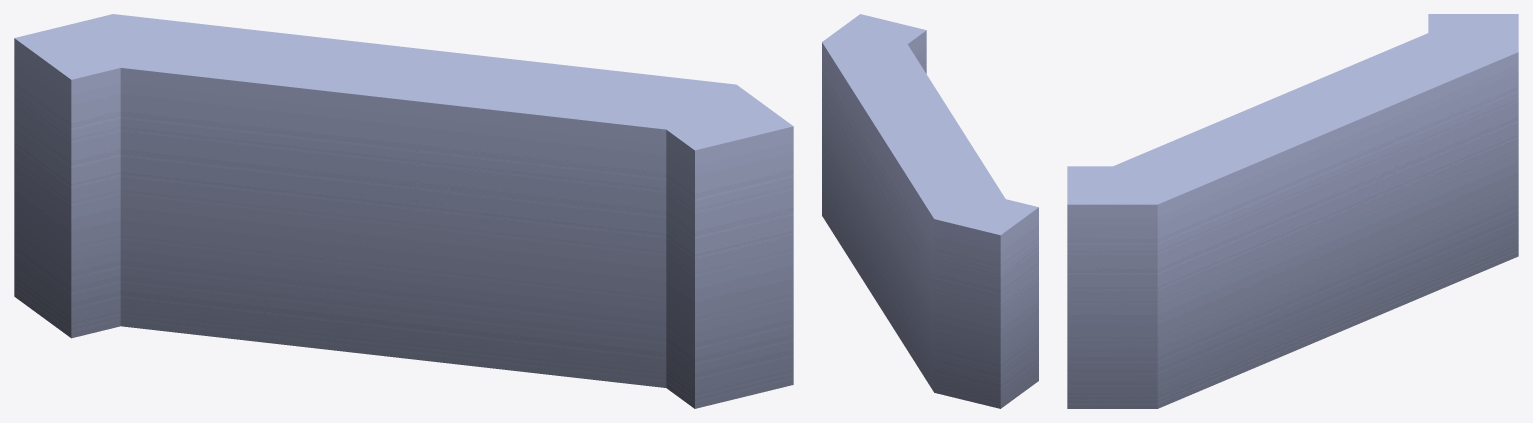
Rendered from wall-diagonal-low.glb.
The picture shows the model from 3 angles, left to right: view 1: azimuth 30°, elevation 25°; view 2: azimuth 150°, elevation 25°; view 3: azimuth 270°, elevation 25°; orthographic projection. The views are drawn at different scales.
Parts seen in each view (by area): view 1: wall-diagonal-low; view 2: wall-diagonal-low; view 3: wall-diagonal-low.
Part boxes in pixels (x1,y1,x2,y2): wall-diagonal-low: [14, 14, 793, 408]; wall-diagonal-low: [822, 14, 1038, 408]; wall-diagonal-low: [1067, 14, 1518, 408].
Bounding box in the file's own units: 1 × 0.5 × 1.
Materials: 1 (1 with a texture image).
